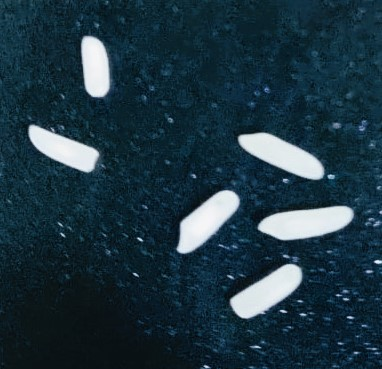broken_grain: (27, 119, 106, 181)
complete_grain: (236, 128, 333, 185), (223, 261, 308, 321), (172, 187, 242, 257), (257, 203, 358, 243), (79, 32, 113, 100)
